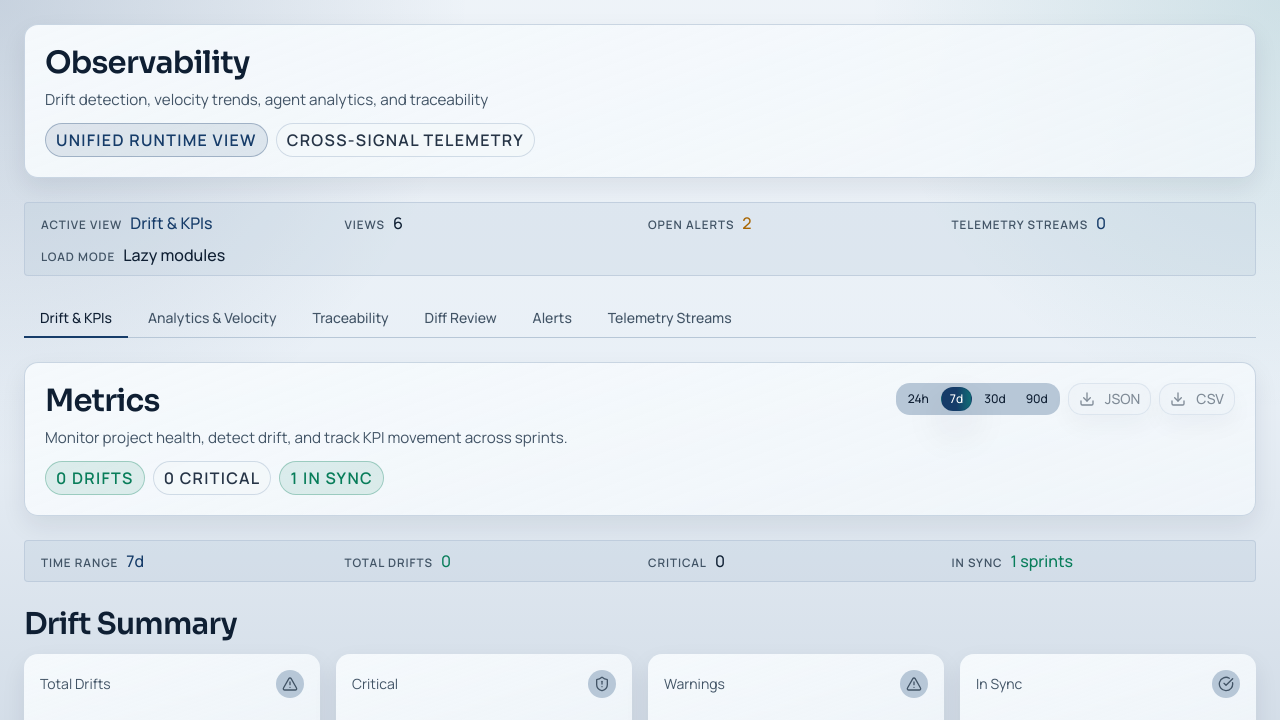
Test: ObservabilityPage › clicking Telemetry Streams tab shows streams description
The width and height of the screenshot is (1280, 720).
Click the tab "Telemetry Streams" at x=670, y=319, box [592,300,748,338]
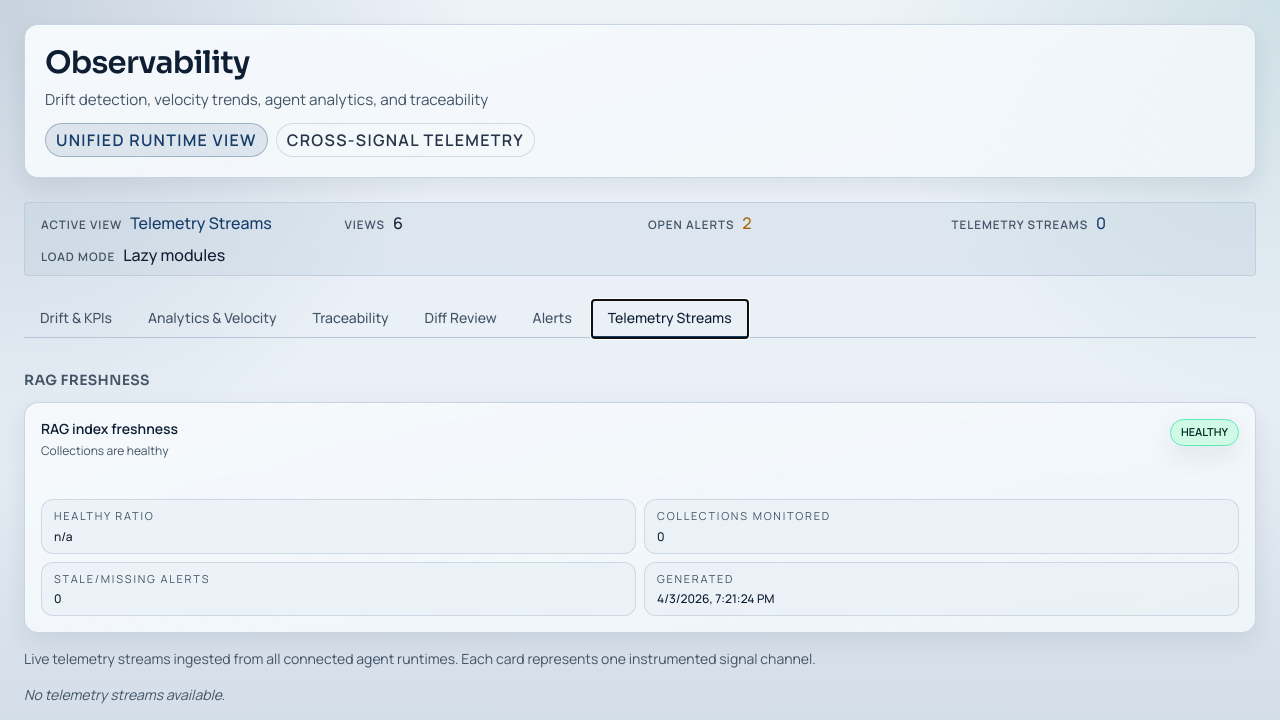
Now the text "Live telemetry streams ingested from all connected agent runtimes" is shown, box [24,649,816,668]
Now the heading "RAG Freshness" is shown, box [24,371,150,389]
Now the text "RAG index freshness" is shown, box [41,419,178,439]
